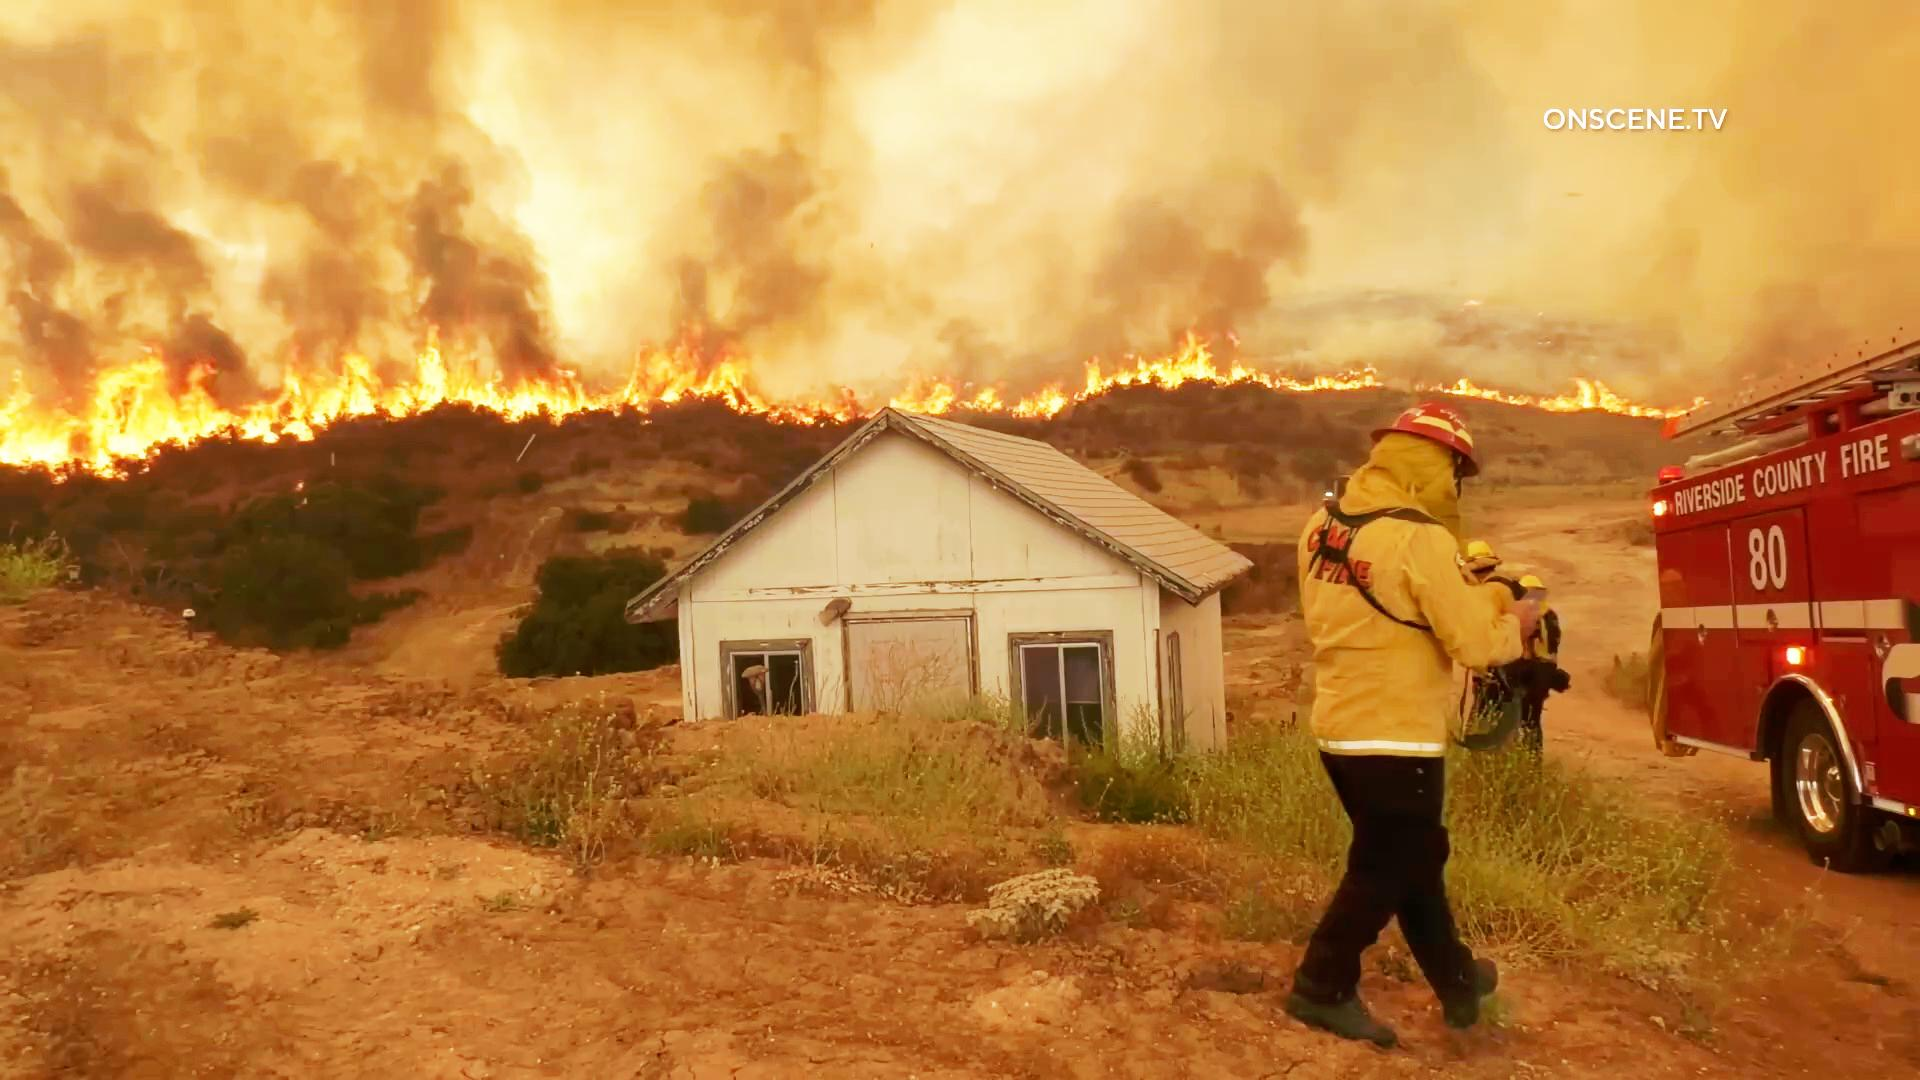fire: (443, 326, 742, 444), (36, 343, 227, 480), (253, 331, 438, 444)
smoke: (0, 63, 535, 311)
